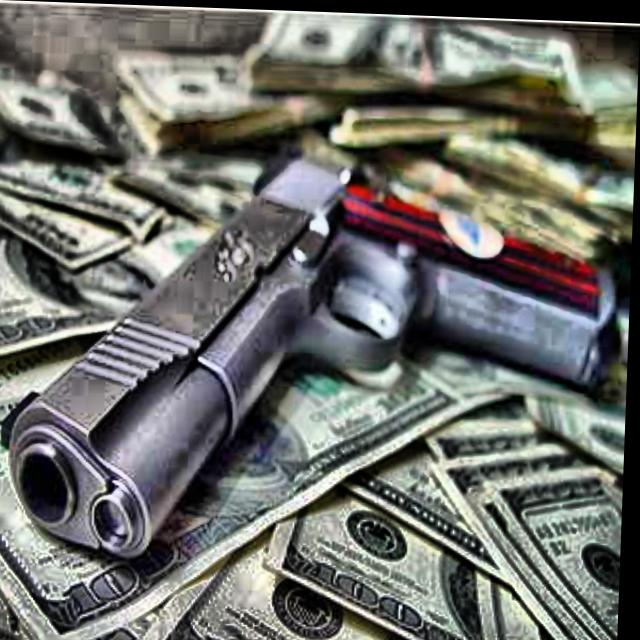pistol: (0, 135, 625, 558)
